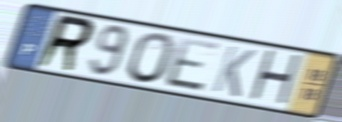9: (88, 23, 131, 79)
E: (163, 35, 223, 95)
H: (245, 47, 305, 110)
K: (209, 43, 258, 100)
O: (125, 31, 177, 86)
R: (33, 12, 97, 75)
